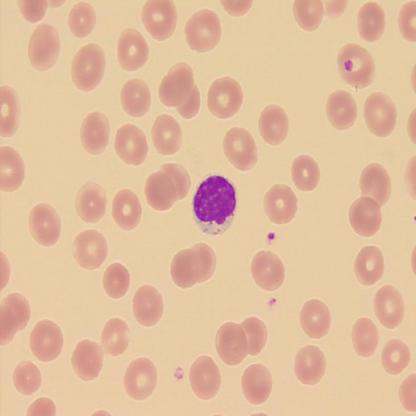Lymphocyte: (192, 172, 238, 235)
